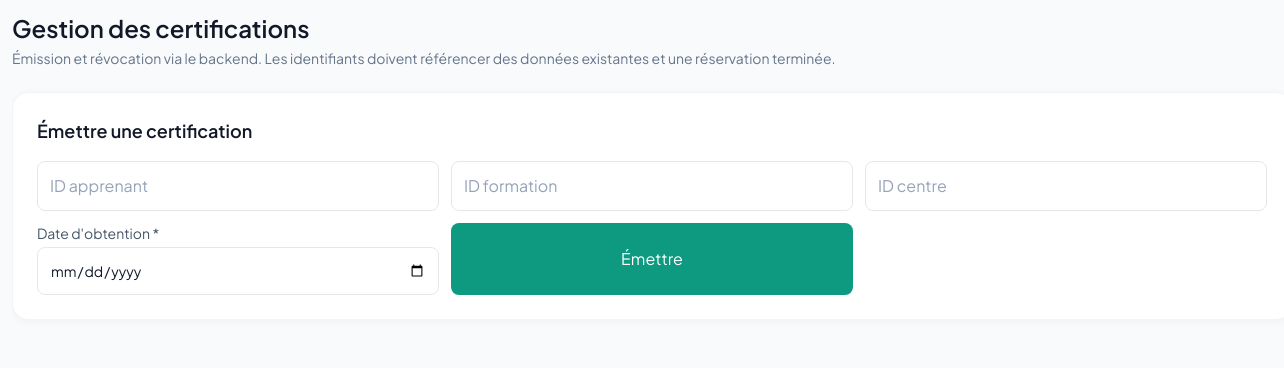
Test: CertificationsPage › shows duplicate issuance errors without fake success
Type "learner-1" into the field labelled "apprenant".
click(238, 186); type("learner-1")  # box [37,161,439,211]
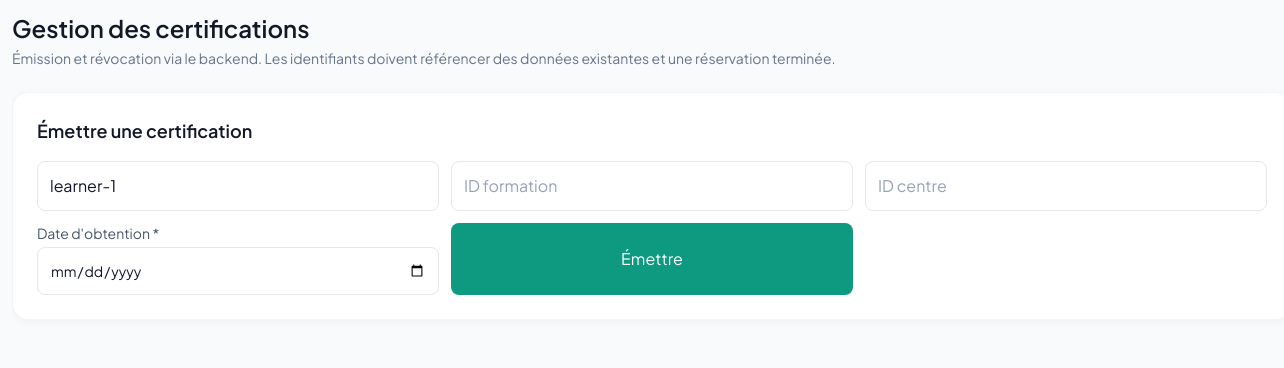
Type "formation-1" into the field labelled "formation".
click(652, 186); type("formation-1")  # box [451,161,853,211]
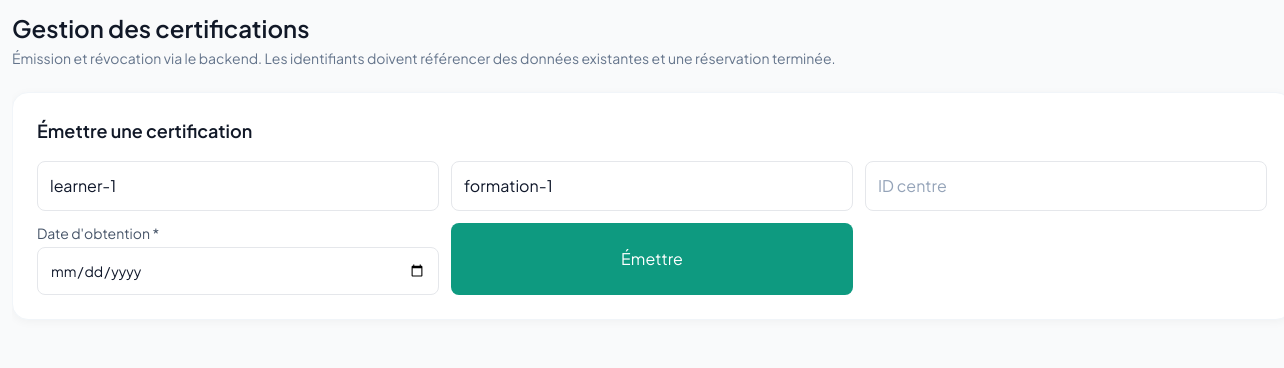
Type "centre-1" into the field labelled "centre".
click(1066, 186); type("centre-1")  # box [865,161,1267,211]
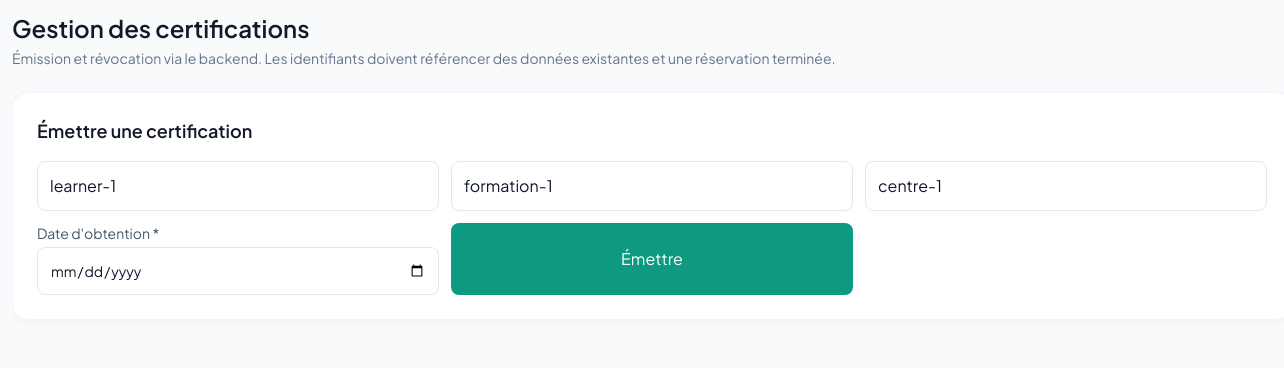
Type "2026-09-11" into the date field labelled "Date d'obtention *".
click(238, 271); type("2026-09-11")  # box [37,247,439,295]
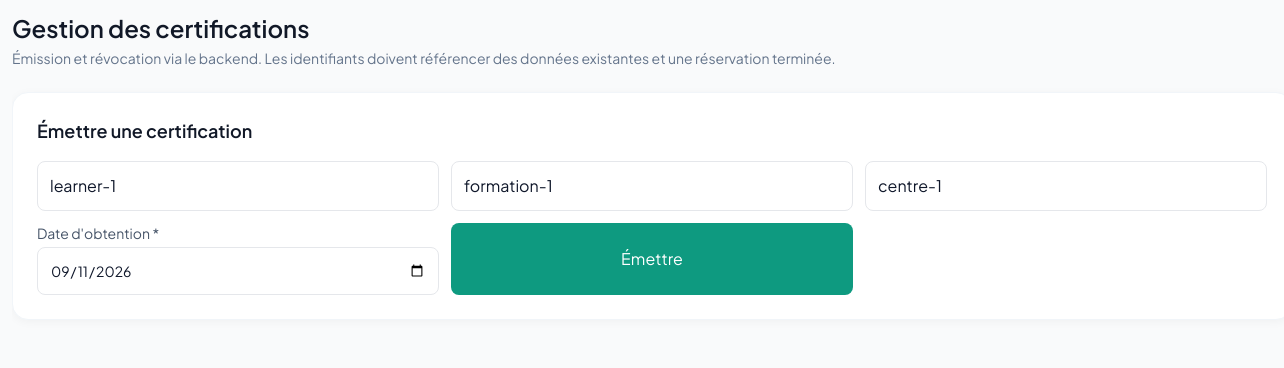
Click the button "Émettre".
click(652, 259)  # box [451,223,853,295]
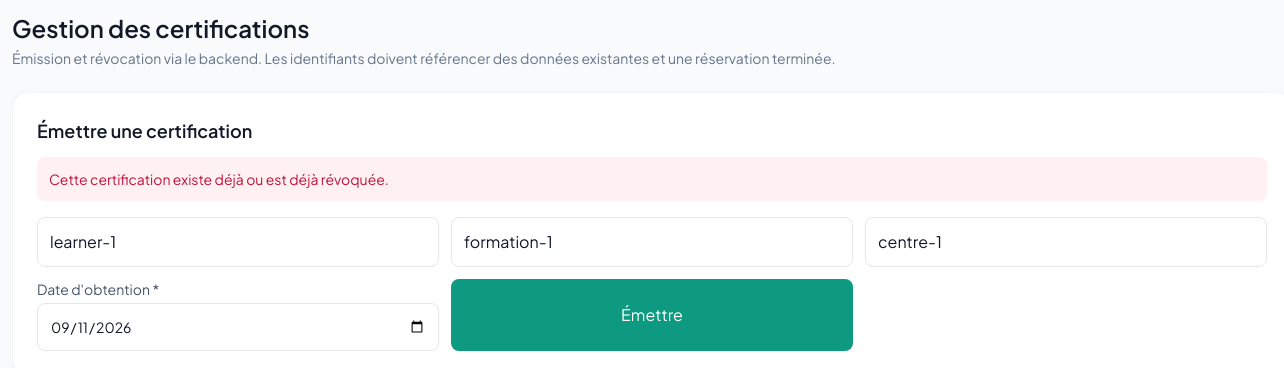
Expected: the message reads "Cette certification existe déjà ou est déjà révoquée.", [49,170,389,188]
